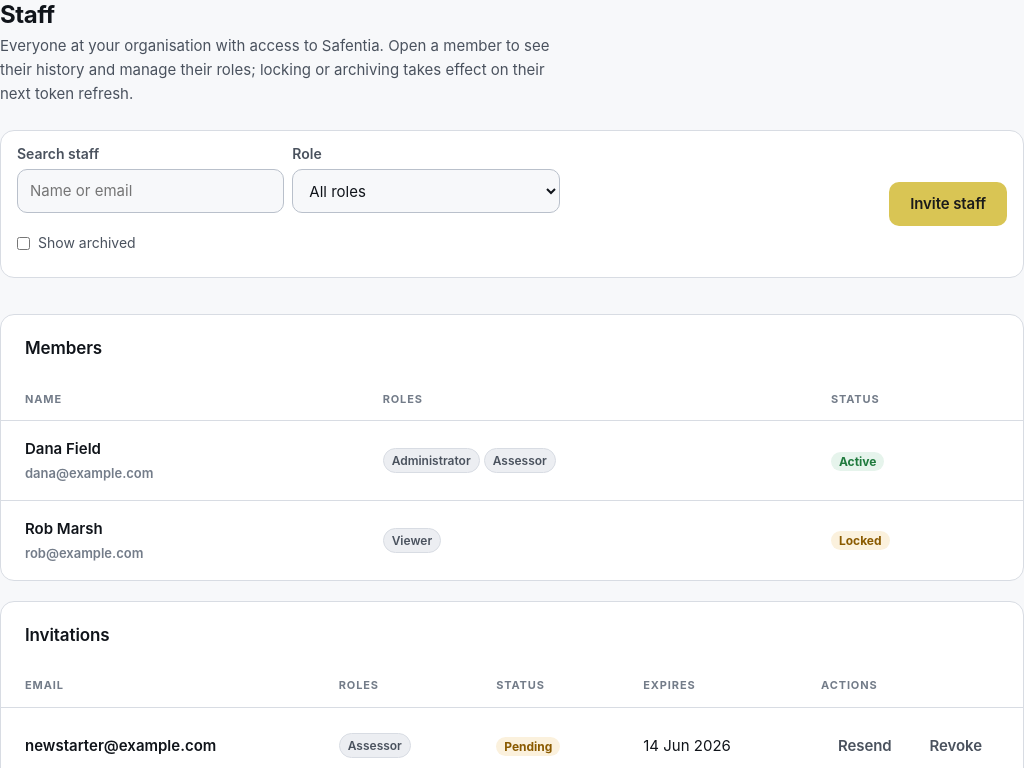
Test: StaffDirectory › filters by name or email through the search box
Type "rob@" into the search field labelled "Search staff" at (151, 191), box [17, 169, 284, 213]
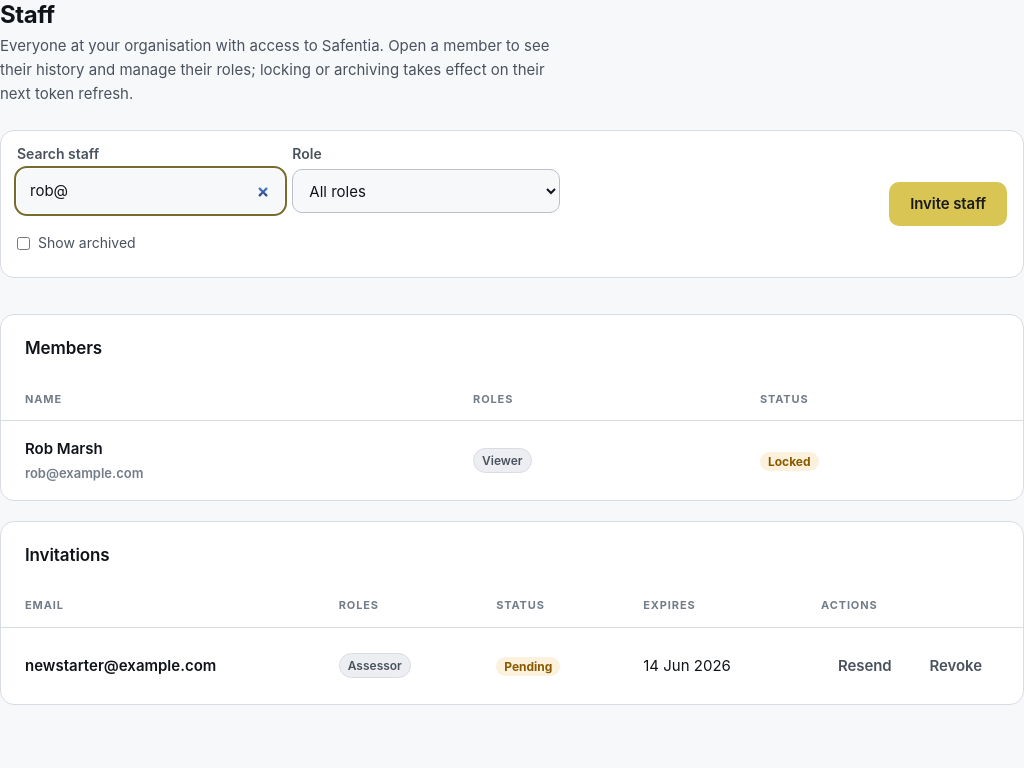
Expected: the text "Rob Marsh" is shown, [25, 439, 103, 458]
Result: the link "Dana Field" is gone
